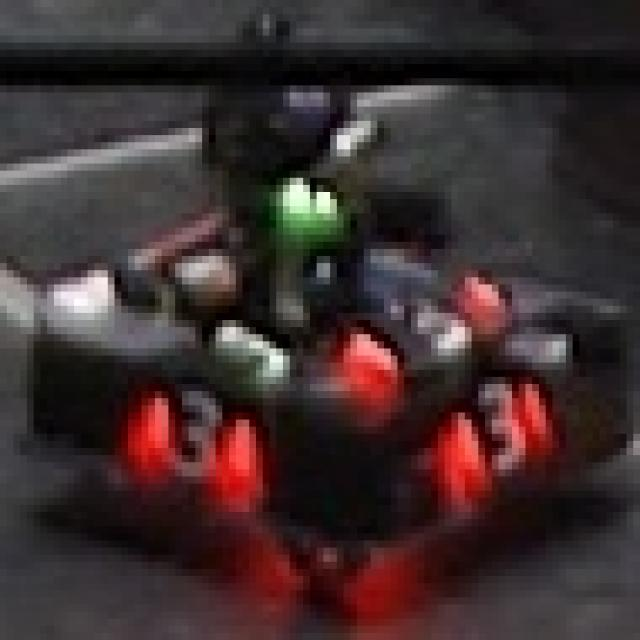R3: (330, 263, 505, 391), (121, 377, 276, 498), (452, 370, 552, 476)
